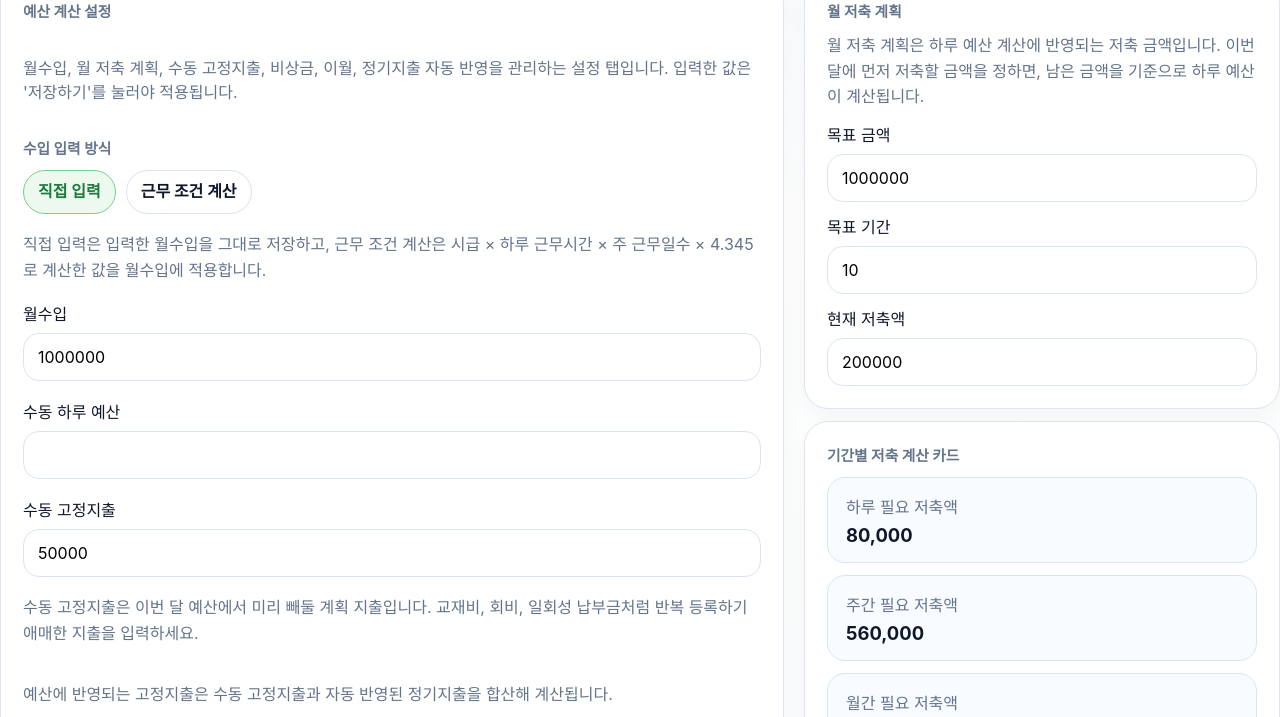
Test: BudgetSettings › validates numeric fields and blocks saving when invalid
(page scrolled)
Replace the text in the field with id "monthlyIncome" with "-1": {"x": 392, "y": 357} [23,333,761,381]
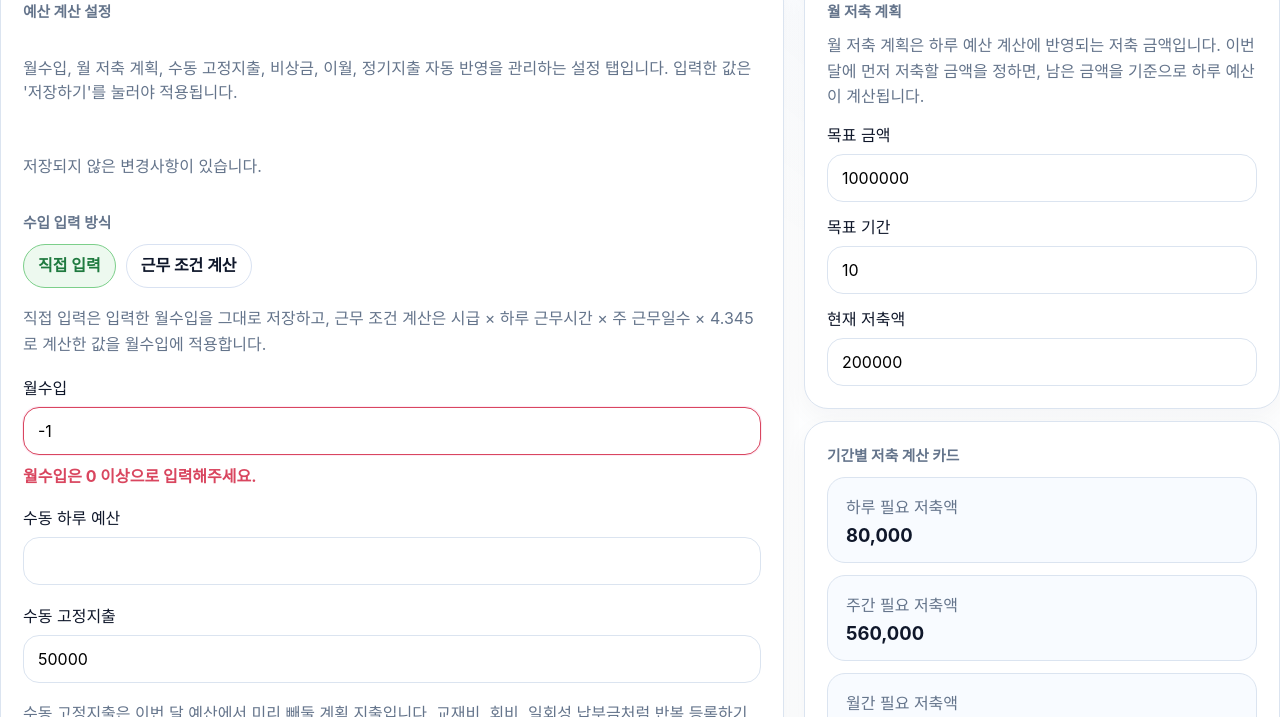
Expected: the field with id "monthlyIncome" is marked as invalid
Replace the text in the field with id "monthlyIncome" with "abc": {"x": 392, "y": 431} [23,407,761,455]
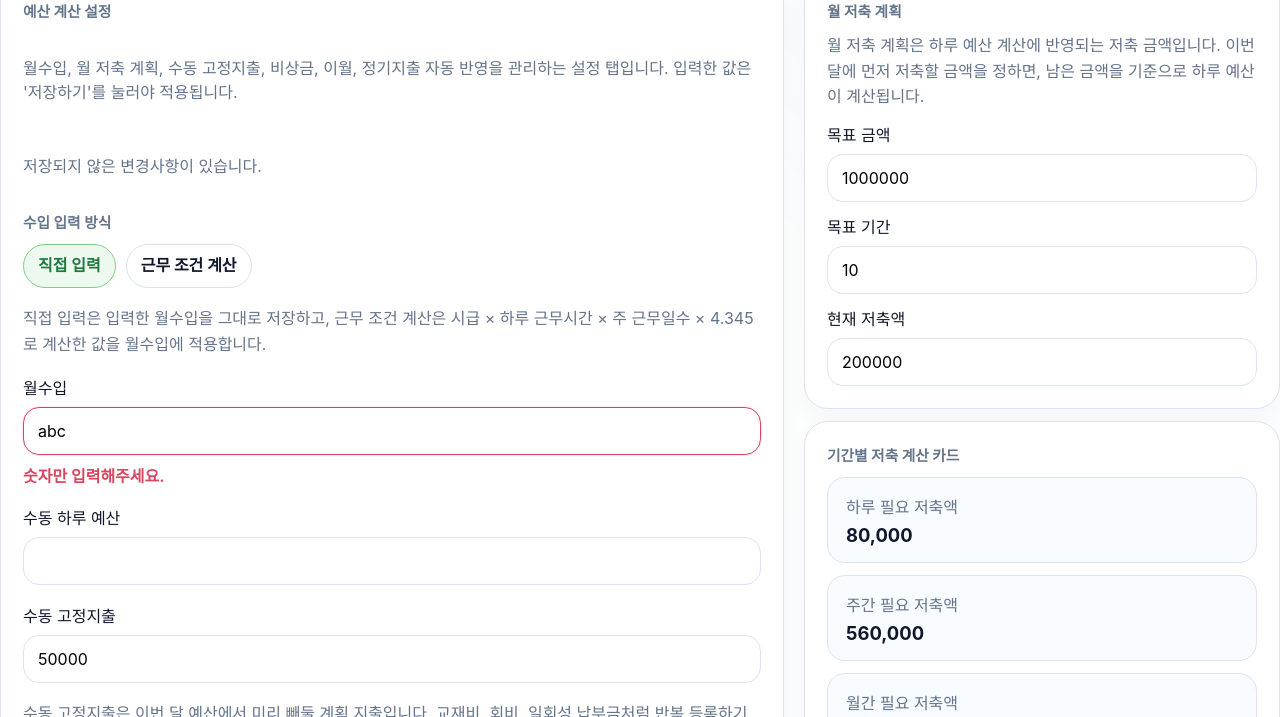
Expected: the field with id "monthlyIncome" is marked as invalid
Replace the text in the field with id "monthlyIncome" with "1200000": {"x": 392, "y": 431} [23,407,761,455]
(page scrolled)
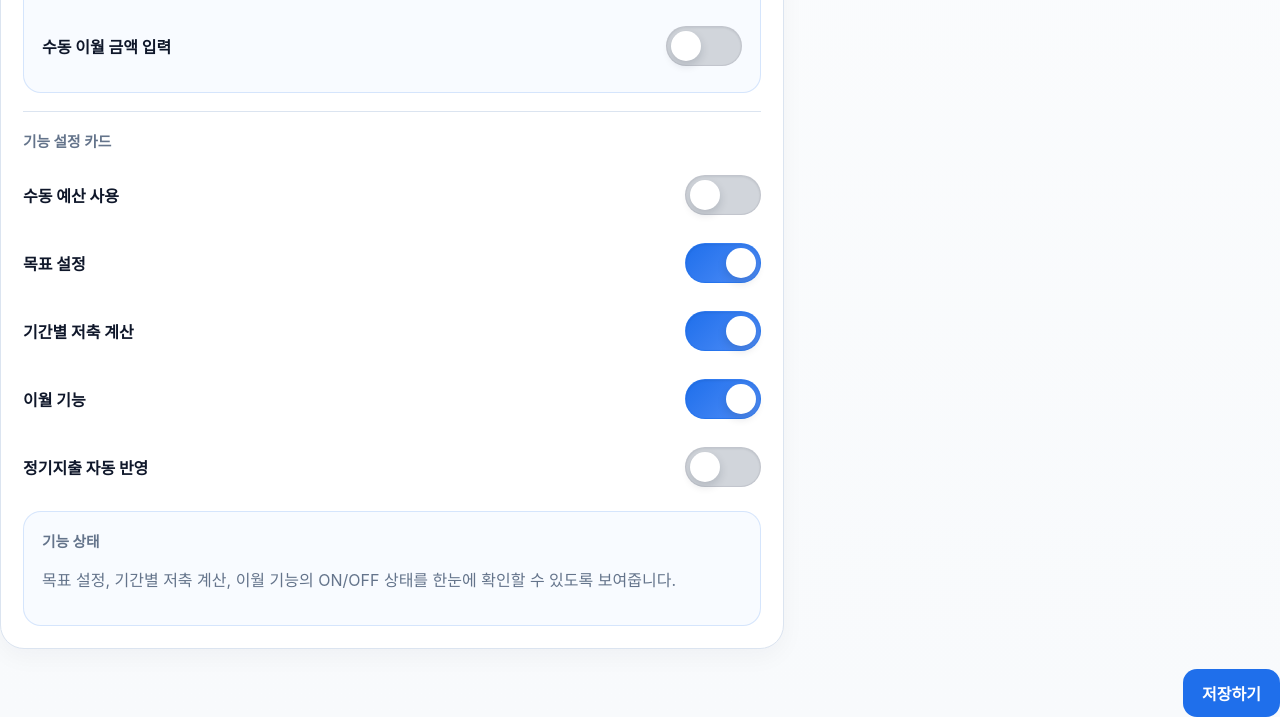
Expected: the submit button is enabled, [1183,669,1279,716]
